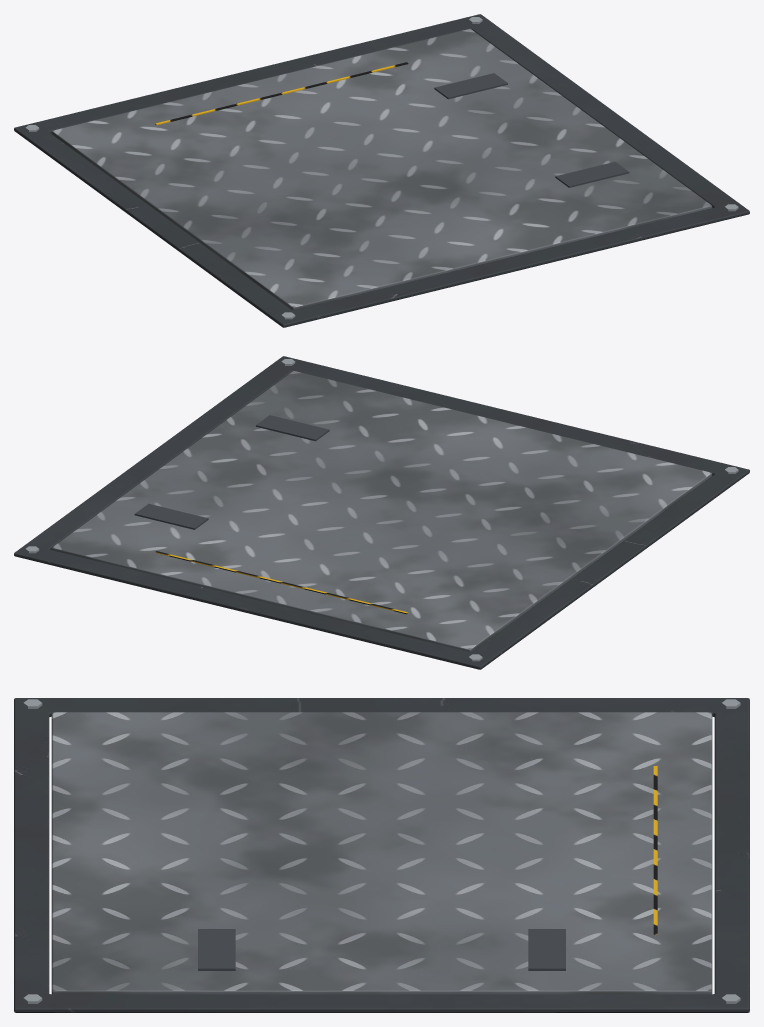
File: FloorHatch.glb
3 renders of one model, top to bottom at view 1: azimuth 30°, elevation 25°; view 2: azimuth 150°, elevation 25°; view 3: azimuth 270°, elevation 25°, orthographic. The views are drawn at different scales.
Visible parts, largest first — view 1: FloorHatch_Lid, FloorHatch_Body; view 2: FloorHatch_Lid, FloorHatch_Body; view 3: FloorHatch_Lid, FloorHatch_Body.
Part boxes in pixels (<box>): FloorHatch_Lid: <box>51,29,712,309</box>; FloorHatch_Body: <box>14,14,749,327</box>; FloorHatch_Lid: <box>51,371,712,651</box>; FloorHatch_Body: <box>14,356,749,669</box>; FloorHatch_Lid: <box>51,712,712,994</box>; FloorHatch_Body: <box>14,698,749,1012</box>.
Bounding box in the file's own units: 0.78 × 0.036 × 0.78.
Materials: 5 (3 with a texture image).
